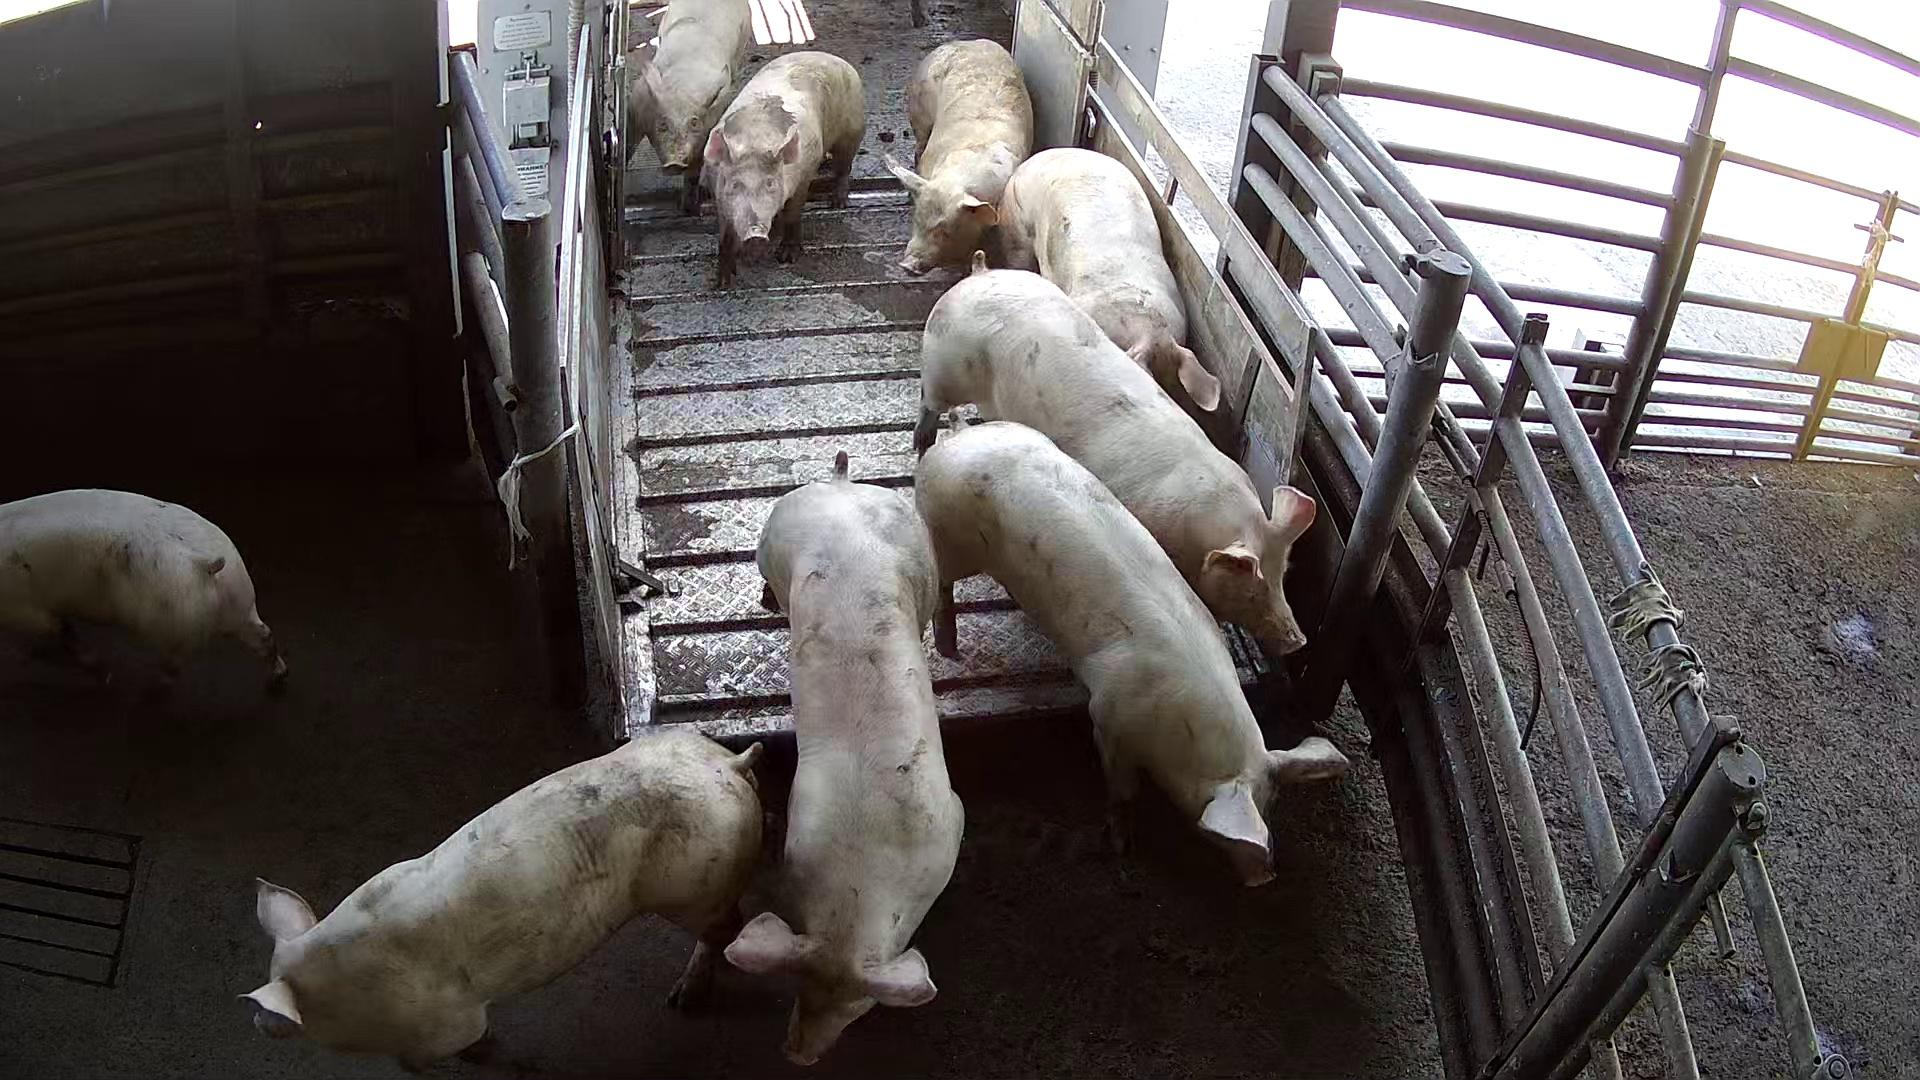Pig: (916, 421, 1348, 885), (243, 732, 761, 1071), (914, 251, 1316, 654), (727, 451, 965, 1065), (1000, 146, 1221, 410), (0, 488, 284, 678), (703, 47, 865, 285), (884, 36, 1033, 272), (629, 0, 752, 211)
